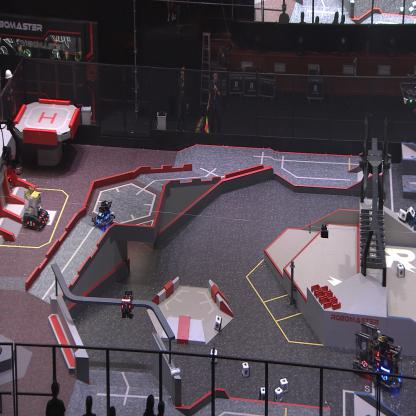car: (374, 333, 404, 391), (354, 320, 380, 377), (21, 184, 49, 232), (91, 197, 116, 232), (0, 164, 14, 194)
